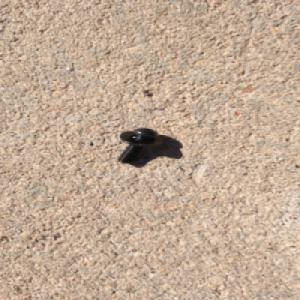BoltWasher: (115, 126, 164, 164)
